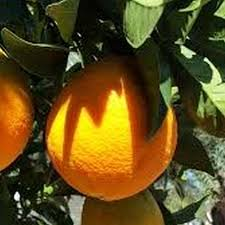orange: (43, 57, 183, 199)
